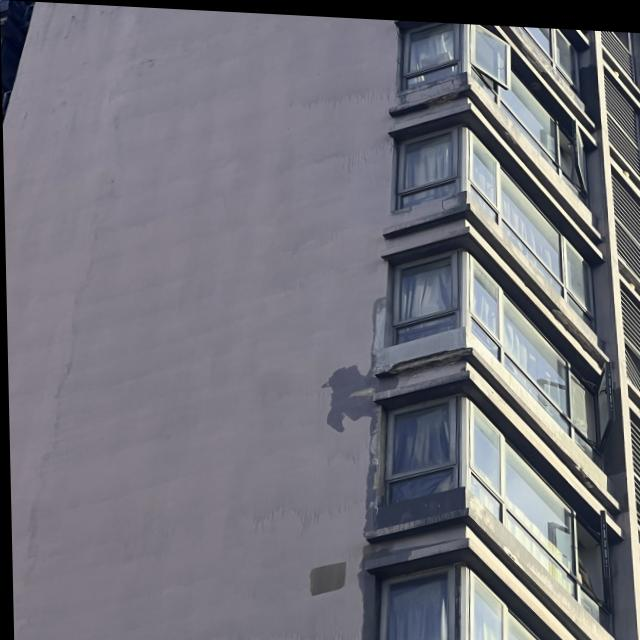spalling: (305, 356, 381, 445), (301, 556, 356, 603)
